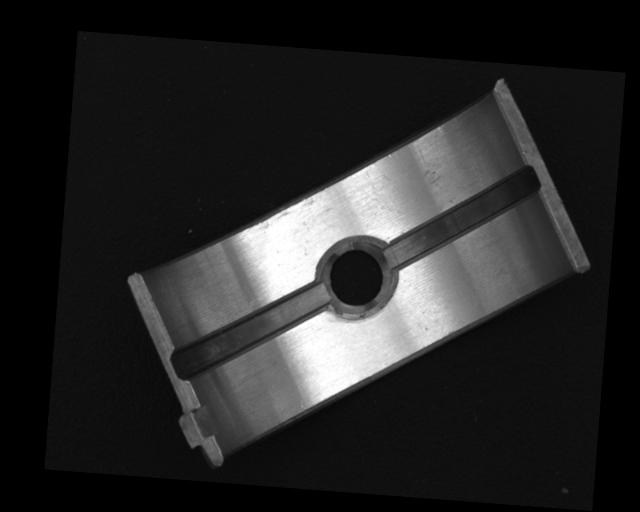gap: (380, 157, 541, 278), (171, 272, 328, 390)
hole: (318, 237, 395, 317)
